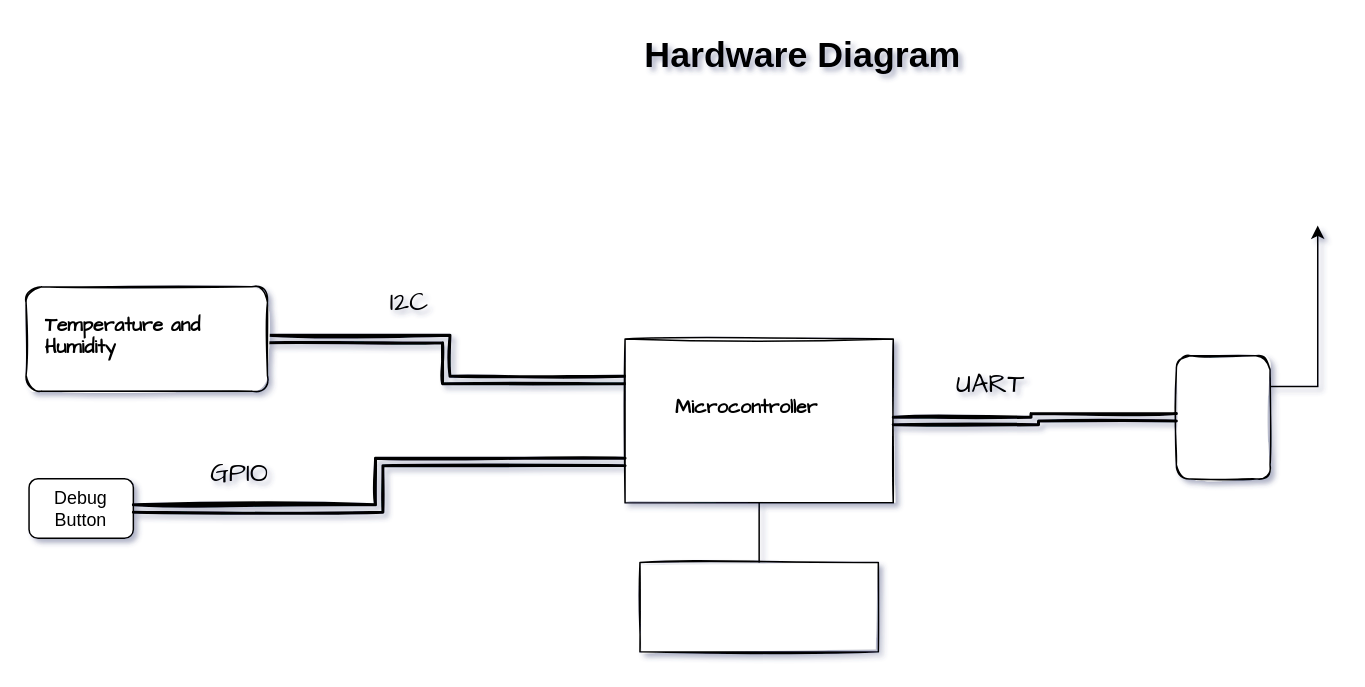
This 1365x687 diagram has some shape labels left out. The centre of each missing label's shape, as x and y in pixels:
LoRa chip: pixel 1222 416
Power Supply: pixel 758 606
